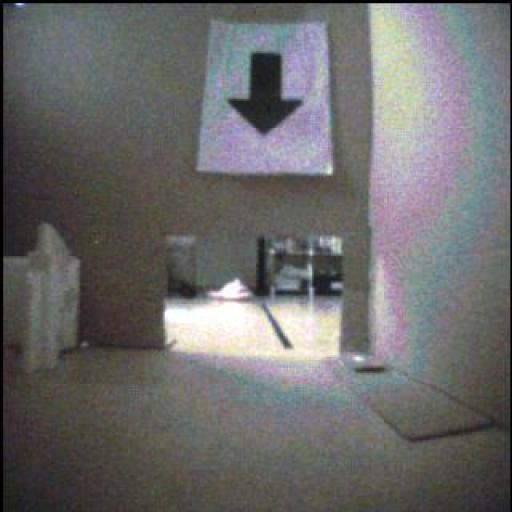arrow: (230, 54, 303, 135)
